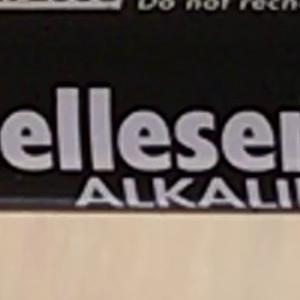keyword: (65, 168, 193, 217)
